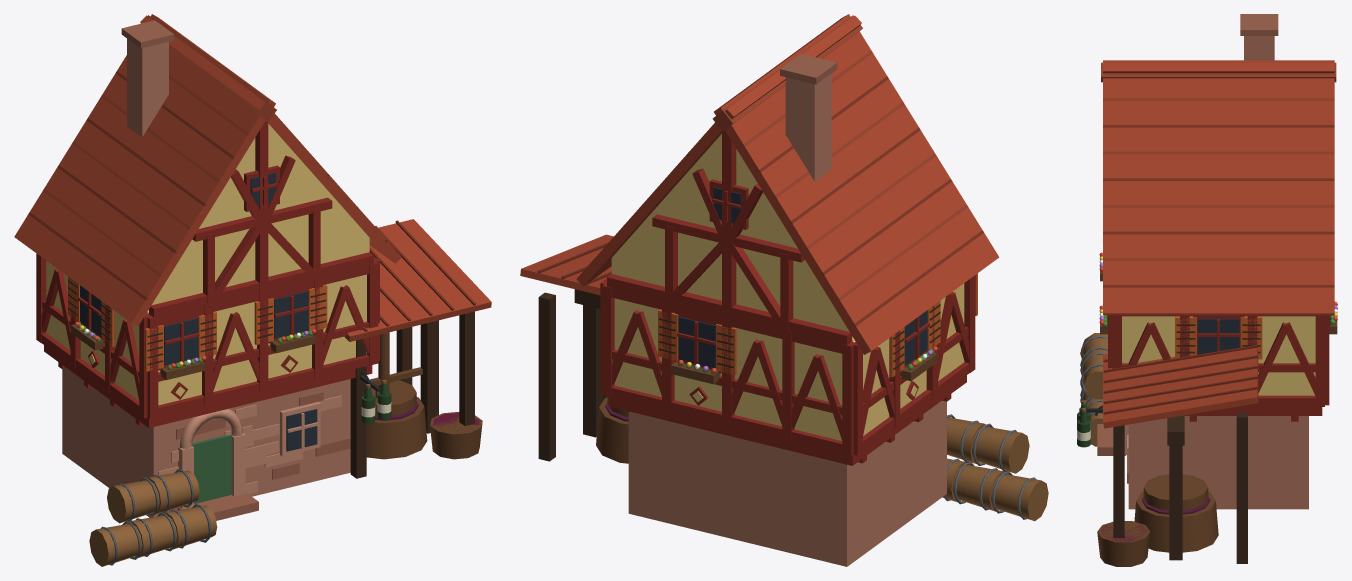
Rendered from kelterei.glb.
3 views of the same model, side by side, from view 1: azimuth 30°, elevation 25°; view 2: azimuth 150°, elevation 25°; view 3: azimuth 270°, elevation 25° (orthographic). The views are drawn at different scales.
Bounding box in the file's own units: 4.73 × 5.09 × 2.75.
